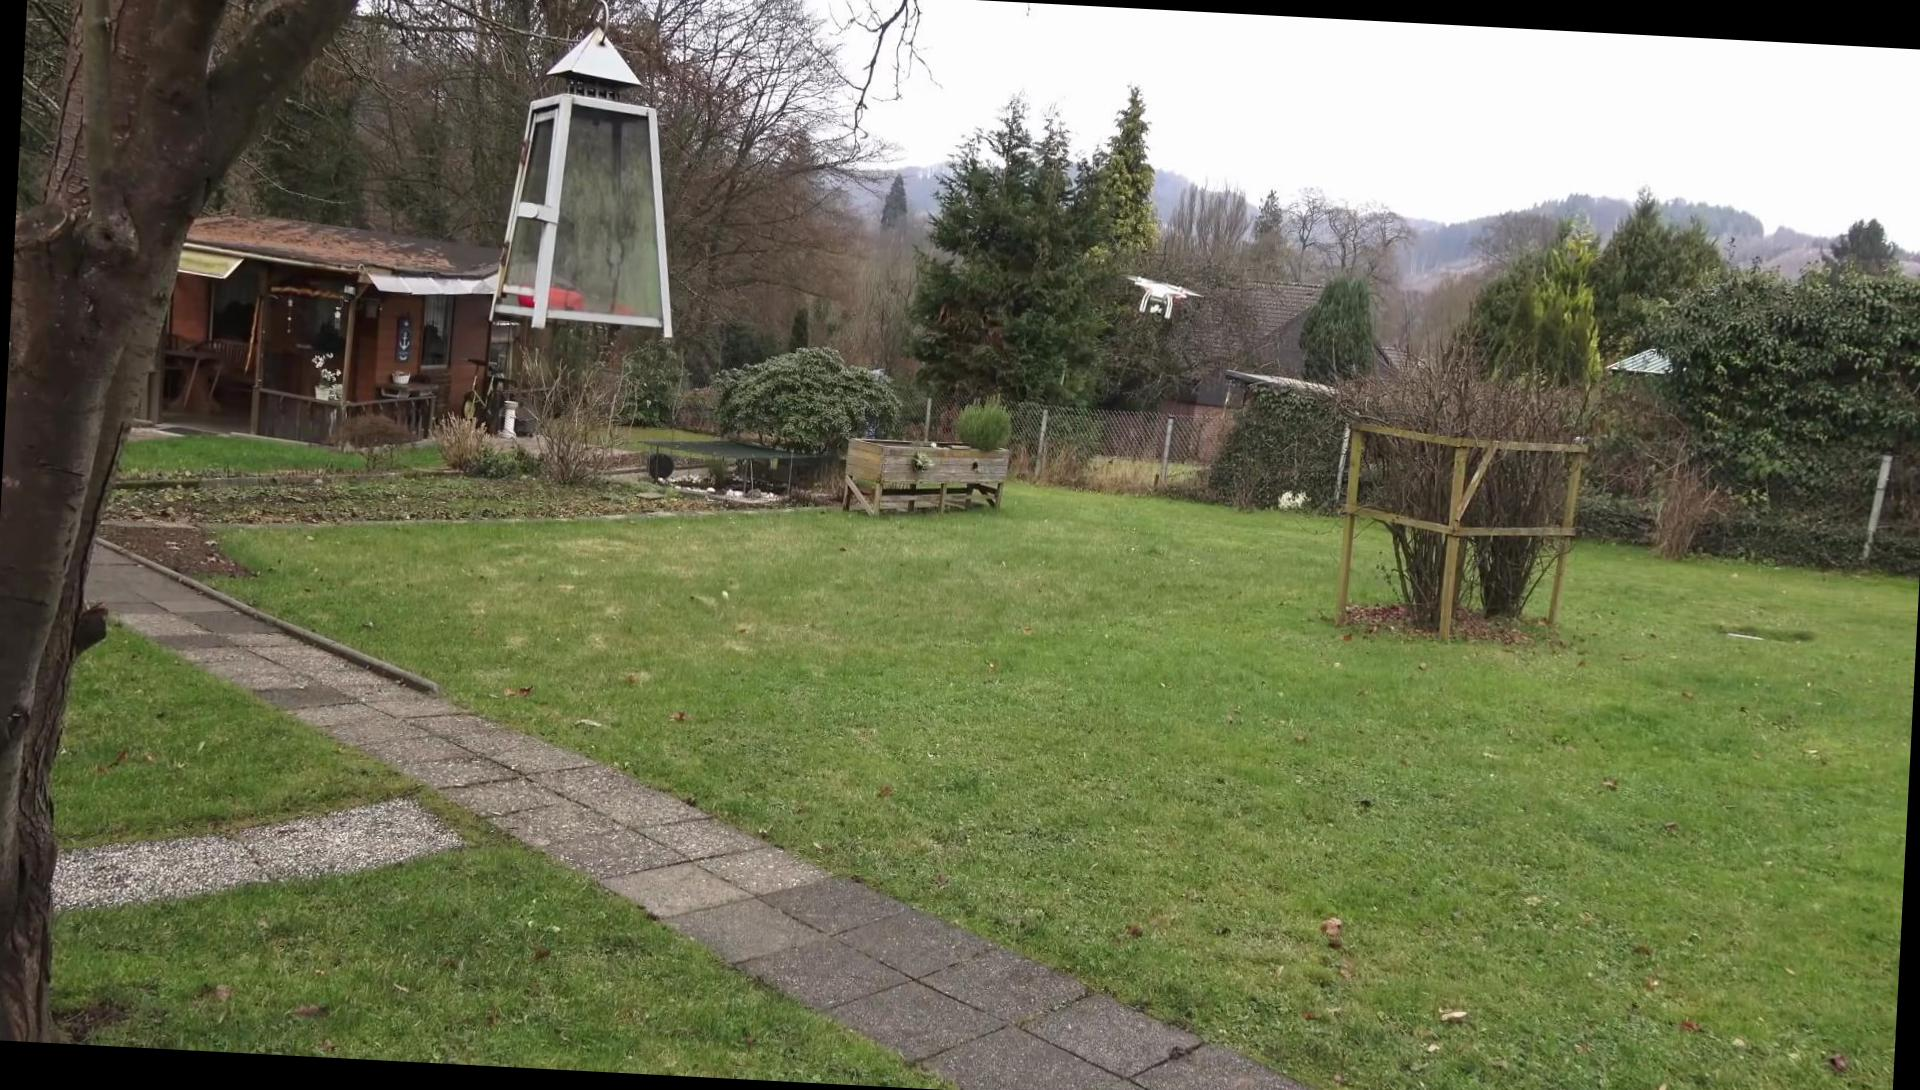drone: (1116, 264, 1200, 323)
